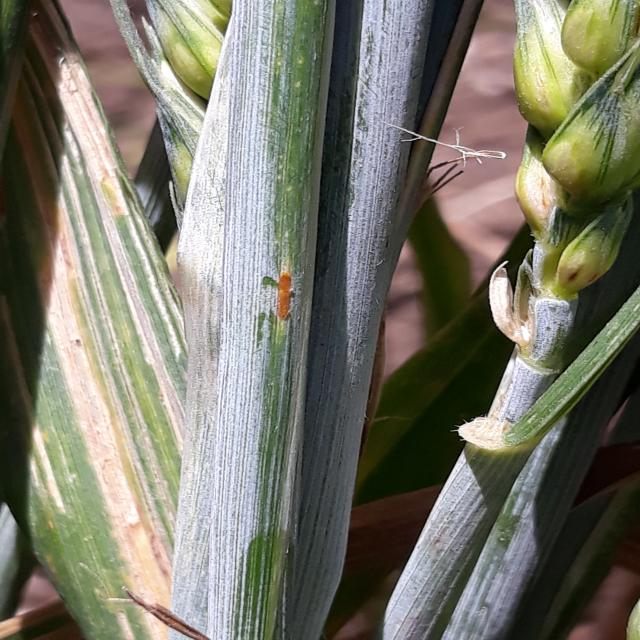black_stem_rust: (0, 17, 422, 640)
